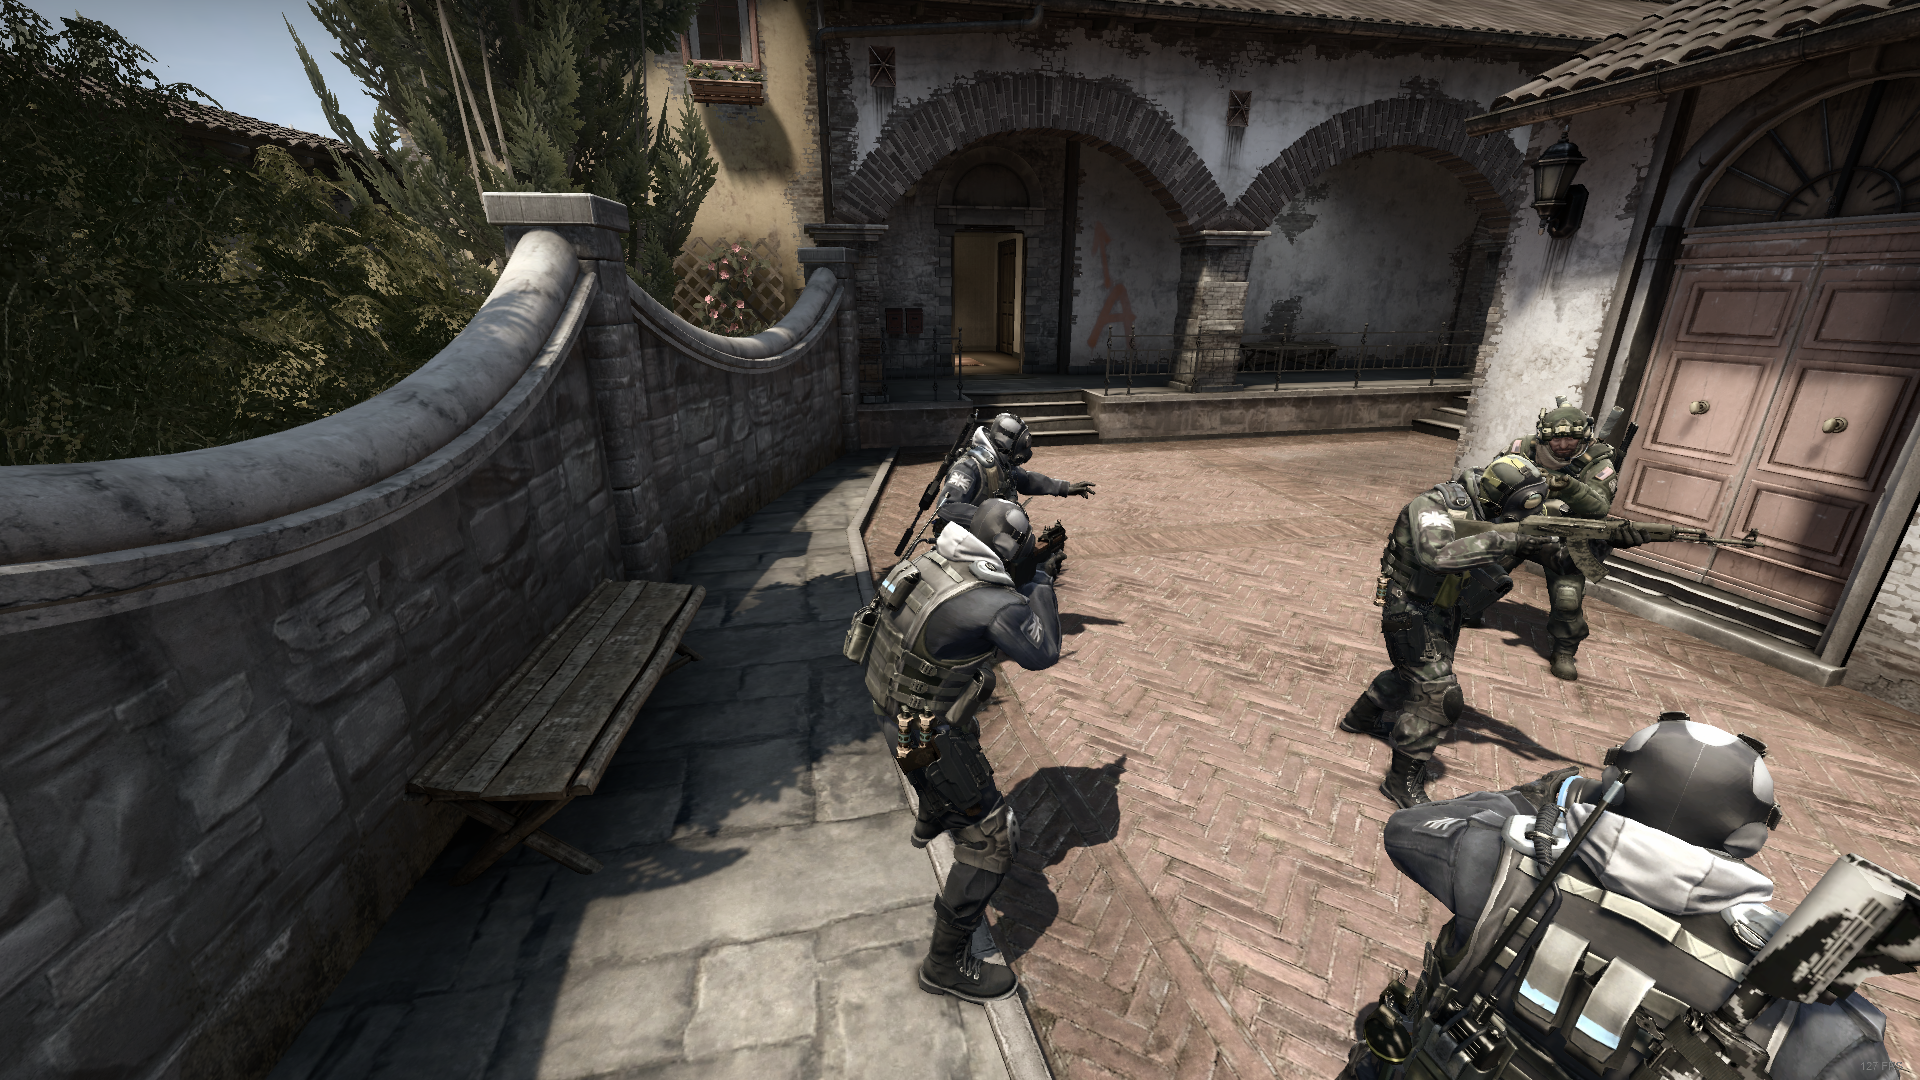ct: (1346, 711, 1920, 1080), (845, 489, 1081, 1015)
